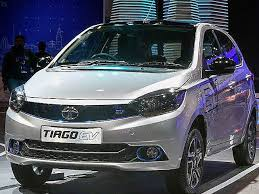Tiago: (6, 18, 259, 193)
